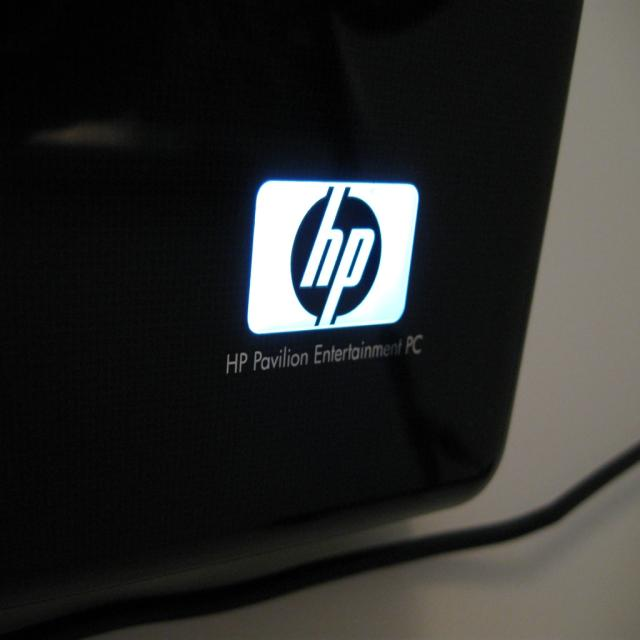HP: (247, 174, 426, 339)
